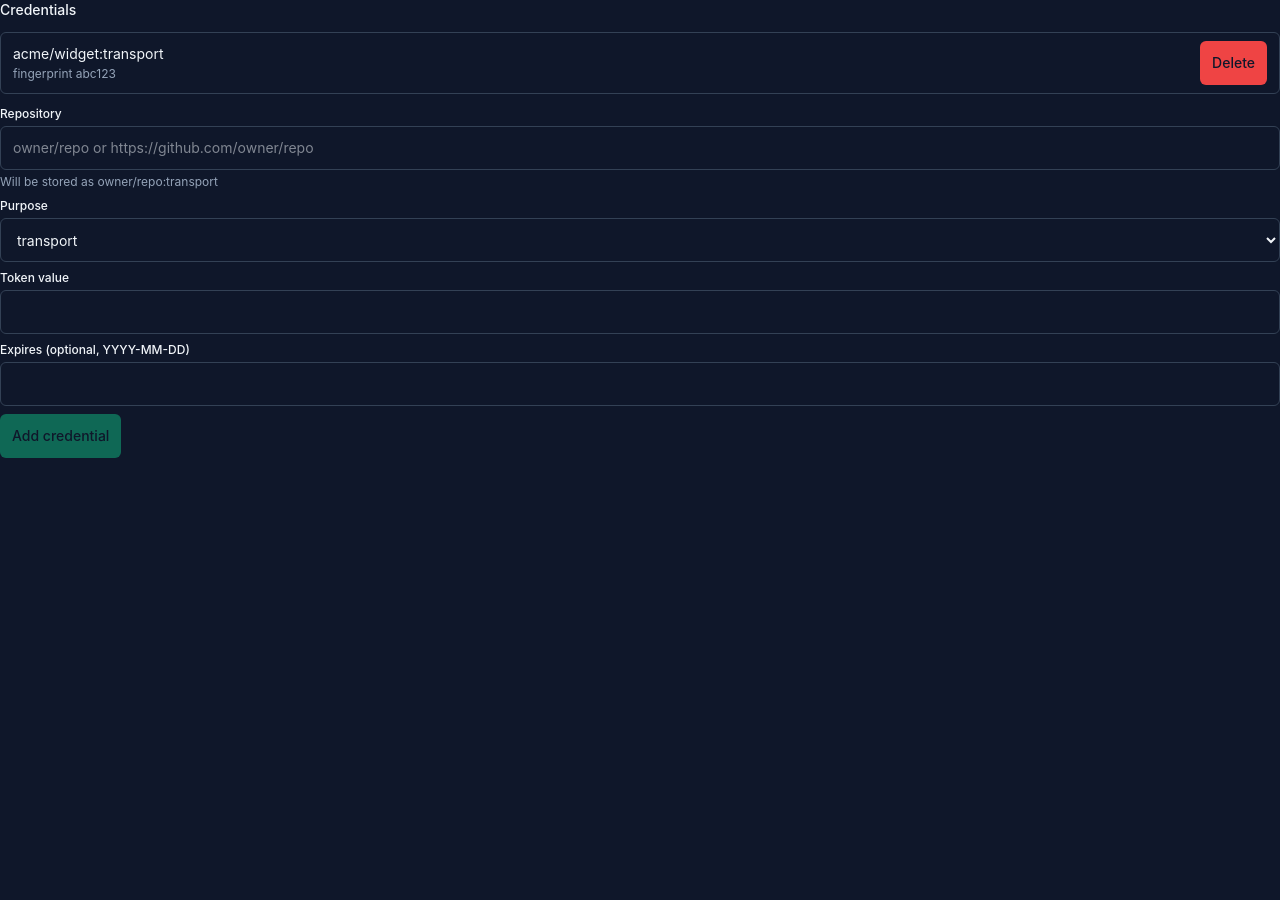
Test: CredentialsSection › surfaces a delete failure as a typed notice, retaining the record
Expected: the list item with test id "credential-row-acme/widget:transport" is shown, [0,32,1279,94]
Step 1. Click the button with test id "credential-row-acme/widget:transport-delete" → {"x": 1234, "y": 63}, box [1200,41,1267,85]
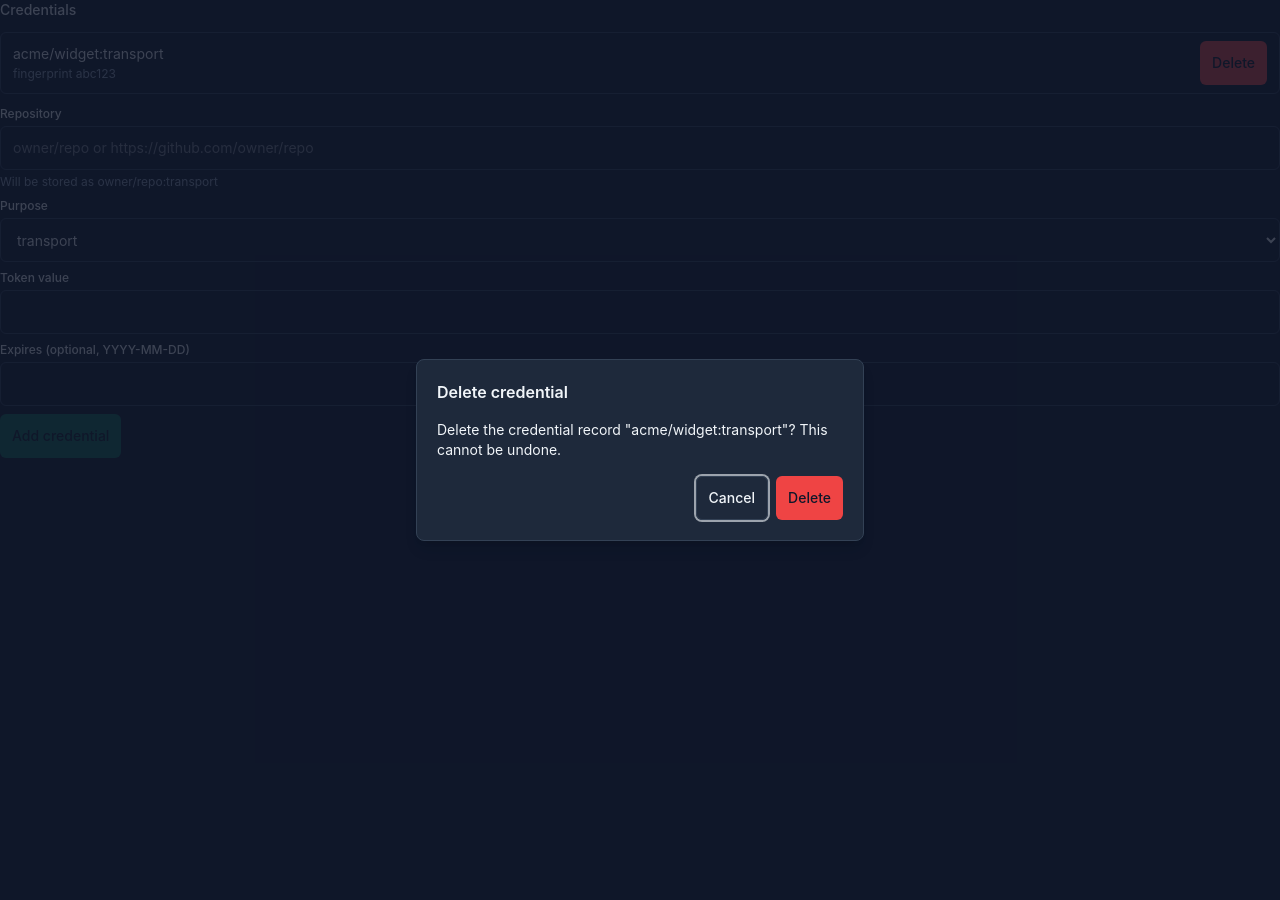
Step 2. Click the button "Delete" → {"x": 810, "y": 498}, box [776,476,843,520]
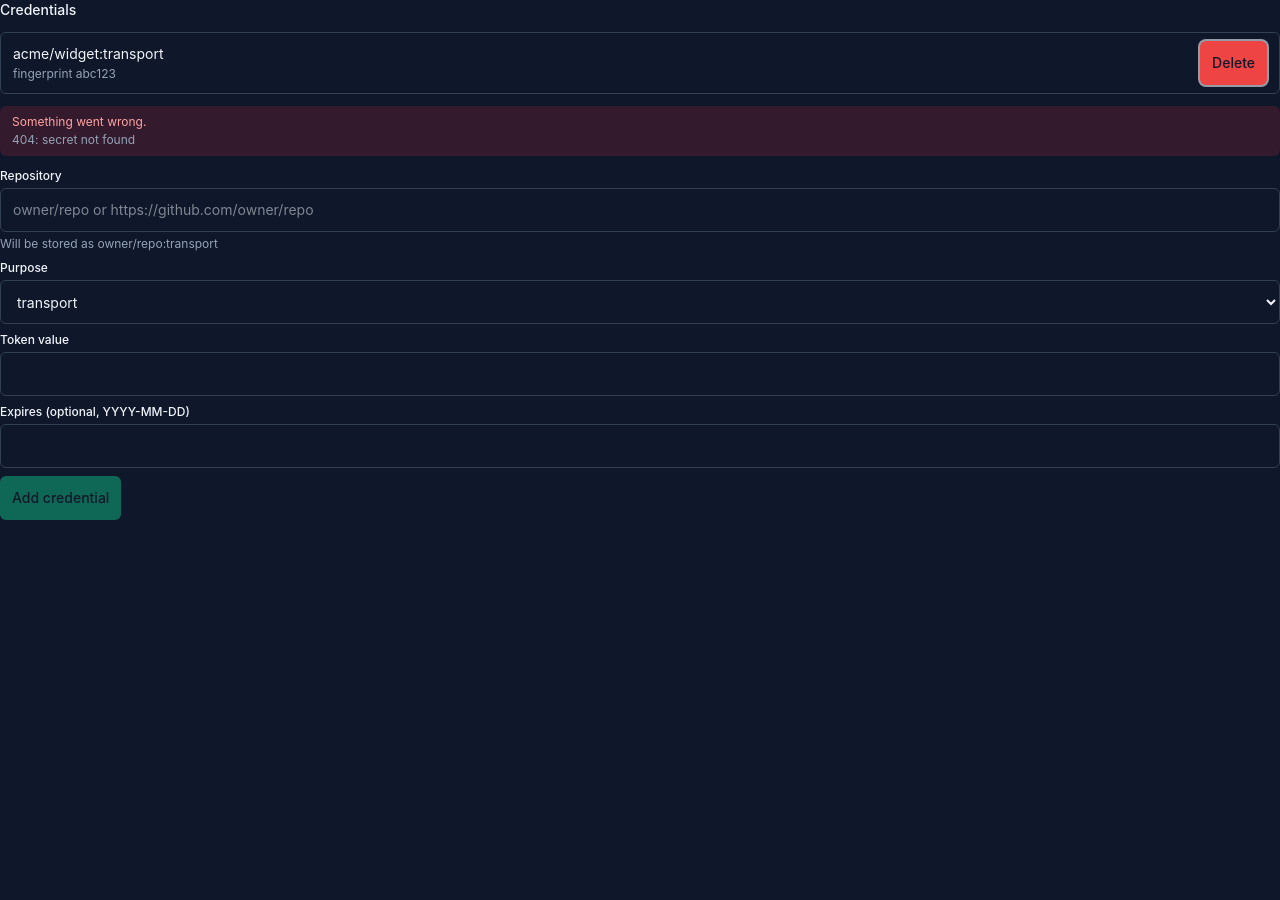
Expected: the list item with test id "credential-row-acme/widget:transport" is shown, [0,32,1279,94]
Expected: the message "Something went wrong. 404: secret not found" is shown, [0,106,1279,156]
